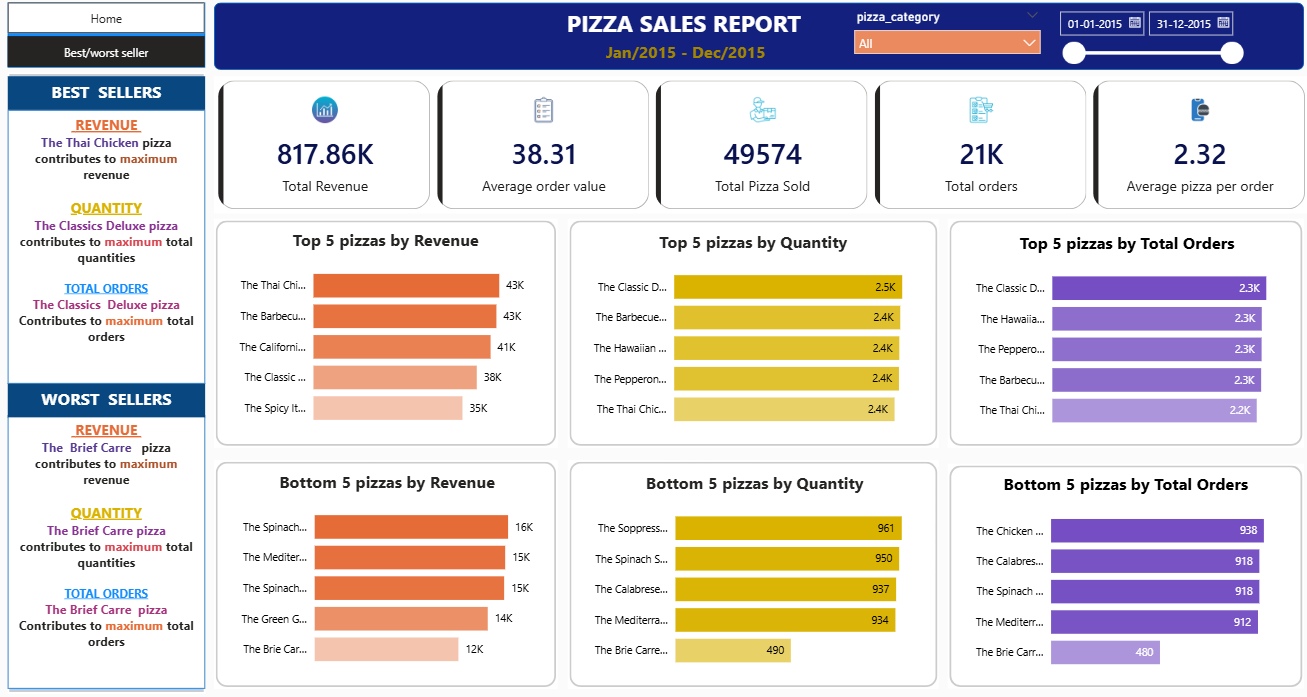

What the dashboard file says about the page in this screenshot:
{"tool":"powerbi","page":{"name":"Best/worst seller","canvas":[1500,820],"ordinal":1},"visuals":[{"type":"cardVisual","fields":{"Data":["pizza_sales.Total Revenue","pizza_sales.Average order value","pizza_sales.Total Pizza Sold","pizza_sales.Total orders","pizza_sales.Average pizza per order"]},"box":[245.7,98.6,1254.3,157.1],"z":0},{"type":"shape","box":[245.7,14.3,1245.7,77.1],"z":1000},{"type":"textbox","box":[638.6,14.3,288.6,52.9],"z":2000},{"type":"textbox","box":[688.6,52.9,194.3,41.4],"z":3000},{"type":"shape","box":[245.7,261.4,392.9,261.4],"z":4000},{"type":"slicer","fields":{"Values":["pizza_sales.pizza_category"]},"box":[967.1,17.1,232.9,71.4],"z":5000},{"type":"shape","box":[10,94.3,225.7,710],"z":6000},{"type":"slicer","fields":{"Values":["pizza_sales.order_date"]},"box":[1200,14.3,230,72],"z":7000},{"type":"textbox","box":[10,98.6,225.7,38.6],"z":8000},{"type":"textbox","box":[10,137.1,225.7,312.9],"z":9000},{"type":"shape","box":[1084.3,261.4,407.1,261.4],"z":10000},{"type":"shape","box":[650,261.4,424.3,261.4],"z":11000},{"type":"shape","box":[245.7,537.1,392.9,261.4],"z":12000},{"type":"shape","box":[1084.3,541.4,407.1,257.1],"z":13000},{"type":"shape","box":[650,537.1,424.3,261.4],"z":14000},{"type":"clusteredBarChart","title":"Top 5 pizzas by Revenue ","fields":{"Y":["pizza_sales.Total Revenue"],"Category":["pizza_sales.pizza_name"]},"box":[258.6,272.9,367.1,238.6],"z":15000},{"type":"clusteredBarChart","title":"Bottom 5 pizzas by Revenue ","fields":{"Y":["pizza_sales.Total Revenue"],"Category":["pizza_sales.pizza_name"]},"box":[260,548.6,367.1,238.6],"z":16000},{"type":"clusteredBarChart","title":"Top 5 pizzas by Quantity","fields":{"Y":["pizza_sales.Total Pizza Sold"],"Category":["pizza_sales.pizza_name"]},"box":[662.9,274.3,398.6,238.6],"z":17000},{"type":"clusteredBarChart","title":"Bottom 5 pizzas by Quantity","fields":{"Y":["pizza_sales.Total Pizza Sold"],"Category":["pizza_sales.pizza_name"]},"box":[664.3,550,398.6,238.6],"z":18000},{"type":"clusteredBarChart","title":"Top 5 pizzas by Total Orders","fields":{"Category":["pizza_sales.pizza_name"],"Y":["pizza_sales.Total orders"]},"box":[1100,275.7,378.6,238.6],"z":19000},{"type":"clusteredBarChart","title":"Bottom 5 pizzas by Total Orders","fields":{"Category":["pizza_sales.pizza_name"],"Y":["pizza_sales.Total orders"]},"box":[1098.6,551.4,378.6,238.6],"z":20000},{"type":"textbox","box":[10,485.7,225.7,312.9],"z":21000},{"type":"textbox","box":[10,450,225.7,38.6],"z":22000},{"type":"shape","box":[10,14.3,225.7,74.3],"z":23000},{"type":"pageNavigator","box":[10,14.3,225.7,35.7],"z":24000},{"type":"pageNavigator","box":[10,52.9,225.7,35.7],"z":25000}]}

Visuals, with their boxes in screenshot pixels (x1, y1, x2, y2), scaled from the page's 1500x820 canvas onto the 1307x697 screenshot:
cardVisual - pizza_sales.Total Revenue x pizza_sales.Average order value: <bbox>214, 84, 1306, 217</bbox>
shape: <bbox>214, 12, 1300, 78</bbox>
textbox: <bbox>556, 12, 808, 57</bbox>
textbox: <bbox>600, 45, 769, 80</bbox>
shape: <bbox>214, 222, 556, 444</bbox>
slicer - pizza_sales.pizza_category: <bbox>843, 15, 1046, 75</bbox>
shape: <bbox>9, 80, 205, 684</bbox>
slicer - pizza_sales.order_date: <bbox>1046, 12, 1246, 73</bbox>
textbox: <bbox>9, 84, 205, 117</bbox>
textbox: <bbox>9, 117, 205, 382</bbox>
shape: <bbox>945, 222, 1300, 444</bbox>
shape: <bbox>566, 222, 936, 444</bbox>
shape: <bbox>214, 457, 556, 679</bbox>
shape: <bbox>945, 460, 1300, 679</bbox>
shape: <bbox>566, 457, 936, 679</bbox>
"Top 5 pizzas by Revenue " clusteredBarChart: <bbox>225, 232, 545, 435</bbox>
"Bottom 5 pizzas by Revenue " clusteredBarChart: <bbox>227, 466, 546, 669</bbox>
"Top 5 pizzas by Quantity" clusteredBarChart: <bbox>578, 233, 925, 436</bbox>
"Bottom 5 pizzas by Quantity" clusteredBarChart: <bbox>579, 468, 926, 670</bbox>
"Top 5 pizzas by Total Orders" clusteredBarChart: <bbox>958, 234, 1288, 437</bbox>
"Bottom 5 pizzas by Total Orders" clusteredBarChart: <bbox>957, 469, 1287, 672</bbox>
textbox: <bbox>9, 413, 205, 679</bbox>
textbox: <bbox>9, 382, 205, 415</bbox>
shape: <bbox>9, 12, 205, 75</bbox>
pageNavigator: <bbox>9, 12, 205, 42</bbox>
pageNavigator: <bbox>9, 45, 205, 75</bbox>
